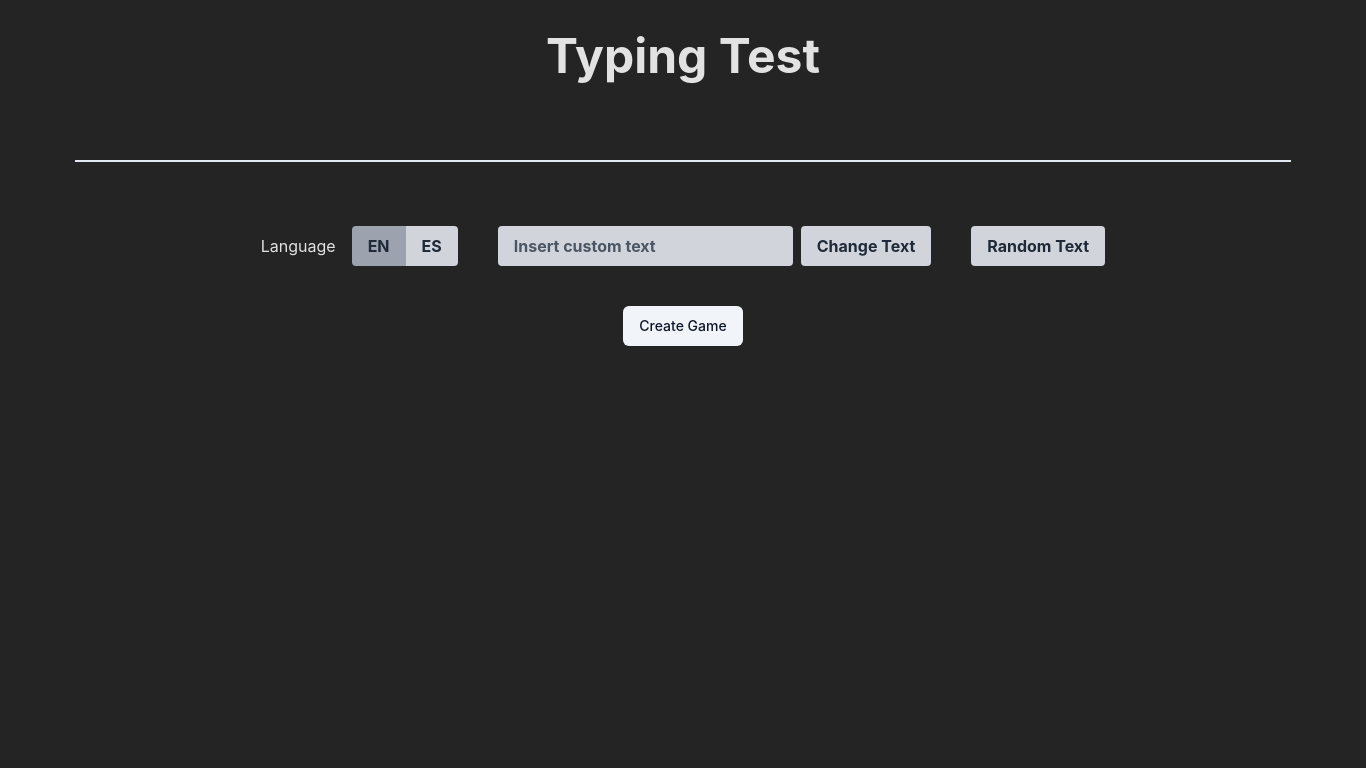
Test: Home Checks › Checking start game
The image size is (1366, 768).
Click the button "Create Game".
click(683, 326)  # box [623,306,743,346]
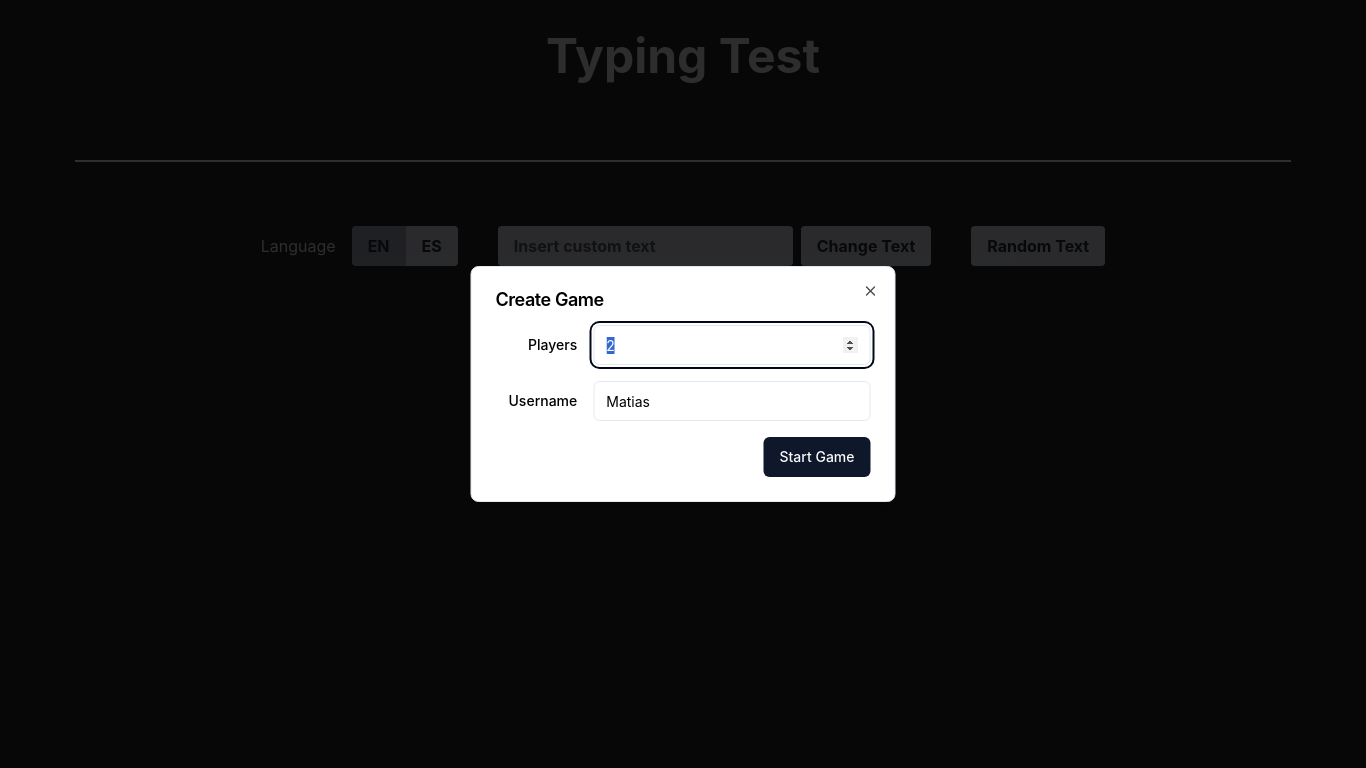
Result: the dialog is shown at [470,266,896,502]
Result: the button "Start Game" is shown at [763,437,870,477]
